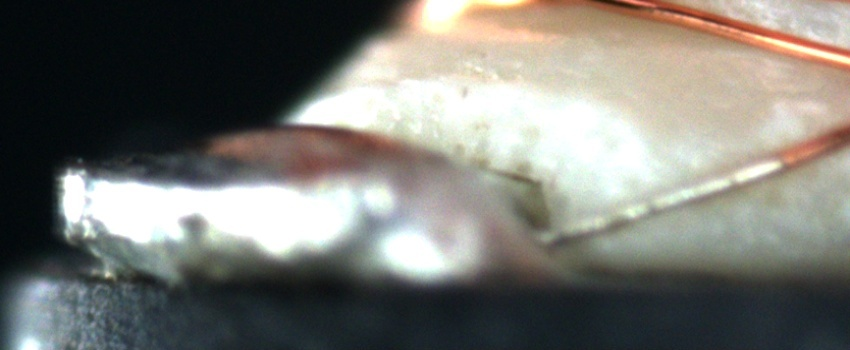TS: (539, 159, 783, 244)
